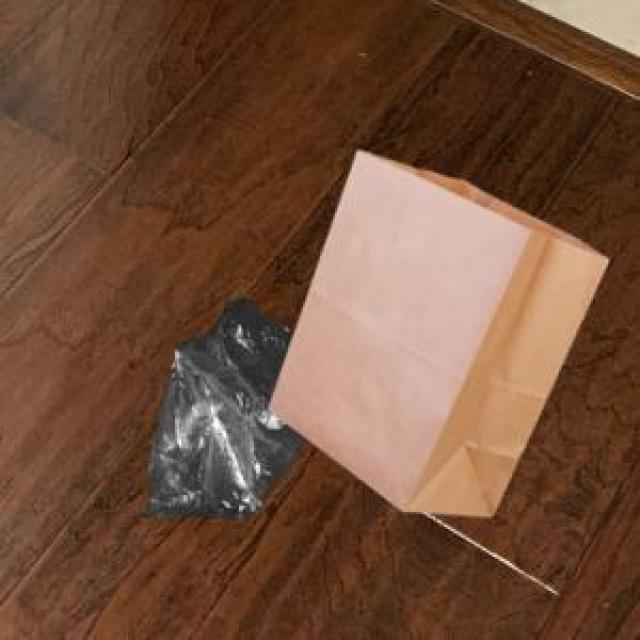paper: (265, 147, 604, 512)
